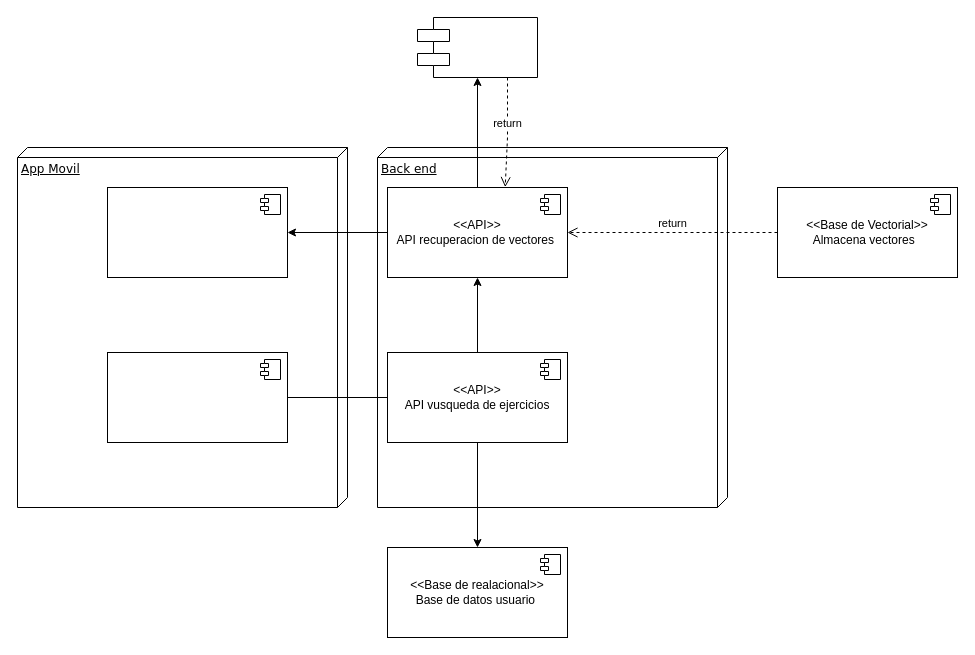
Some shapes in this 975 by 655 pixel diagram are drawn without their labels. Each missing label, with the centre of its shape:
"<<MLL>> Gemini" goes at point (477, 47).
"Busqueda de ejercicios" goes at point (197, 397).
"Presentacion de Rutinas" goes at point (197, 232).
